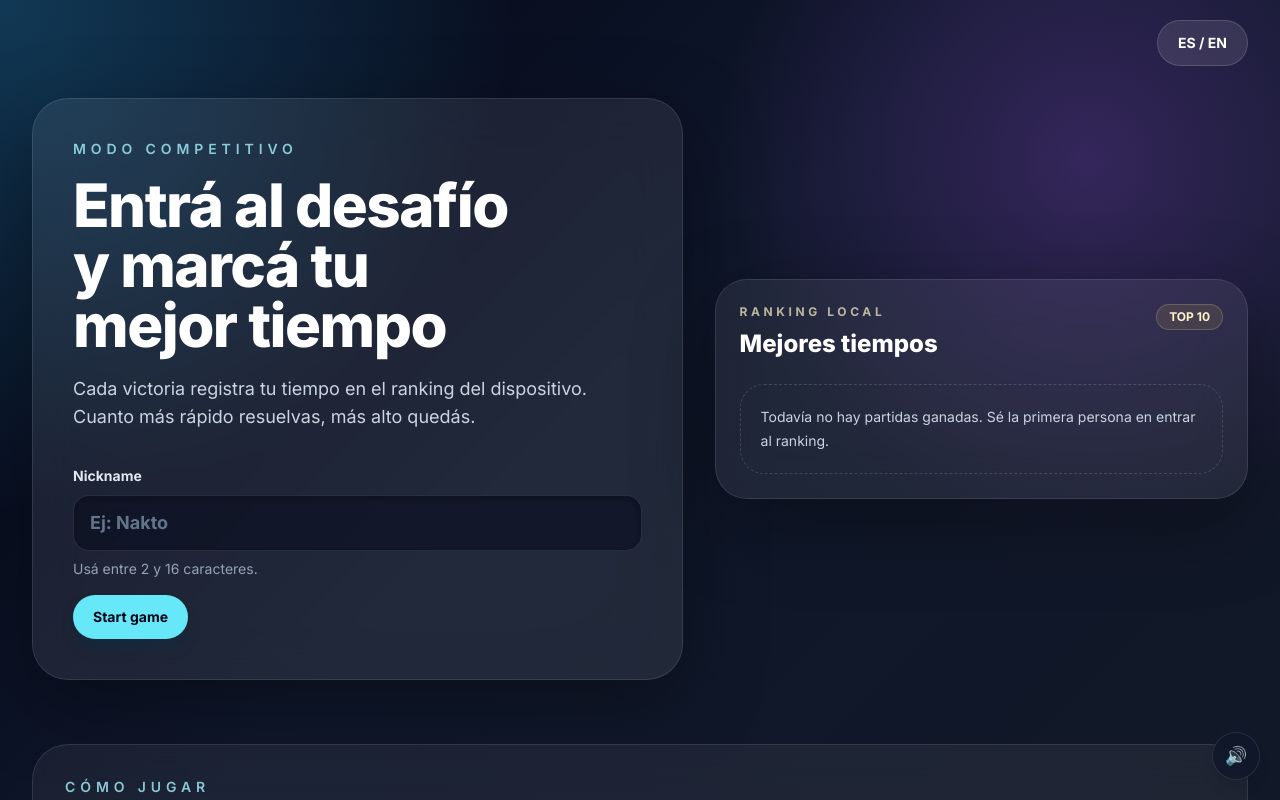
Test: App › allows switching language
The width and height of the screenshot is (1280, 800).
Click the button with aria-label "cambiar a inglés" at (1203, 43), box [1157,20,1248,66]
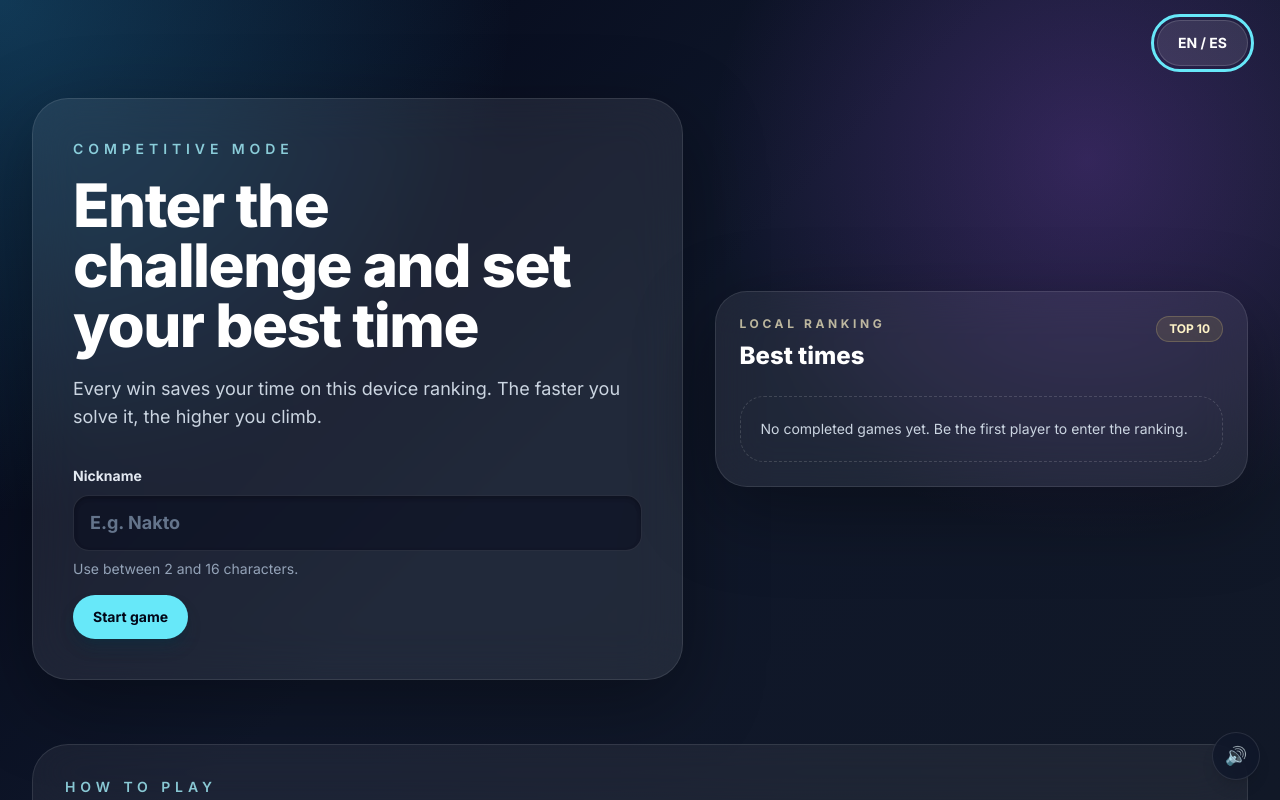
Expected: the heading "Enter the challenge and set your best time" is shown, [73,175,642,355]
